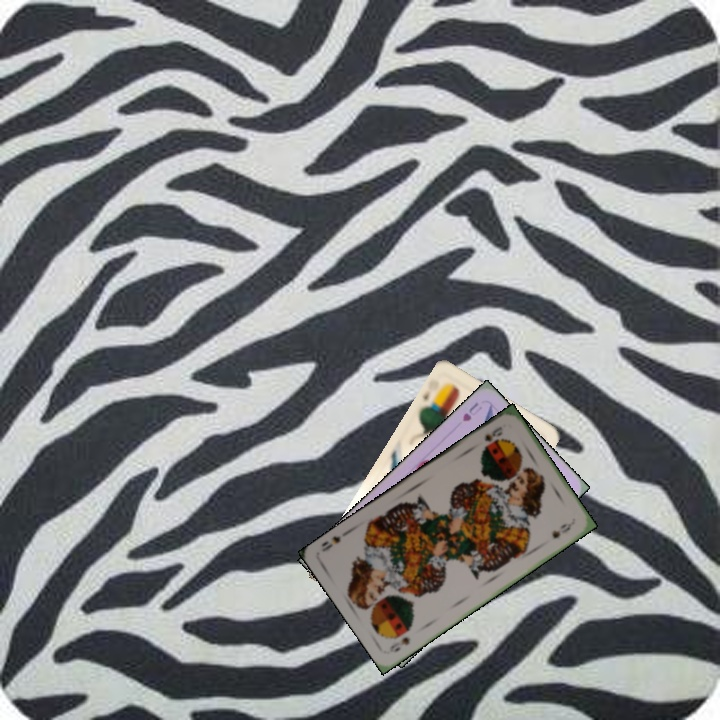EO: (418, 375, 442, 411)
HU: (458, 398, 485, 424)
SO: (480, 422, 506, 450), (385, 633, 413, 655)
